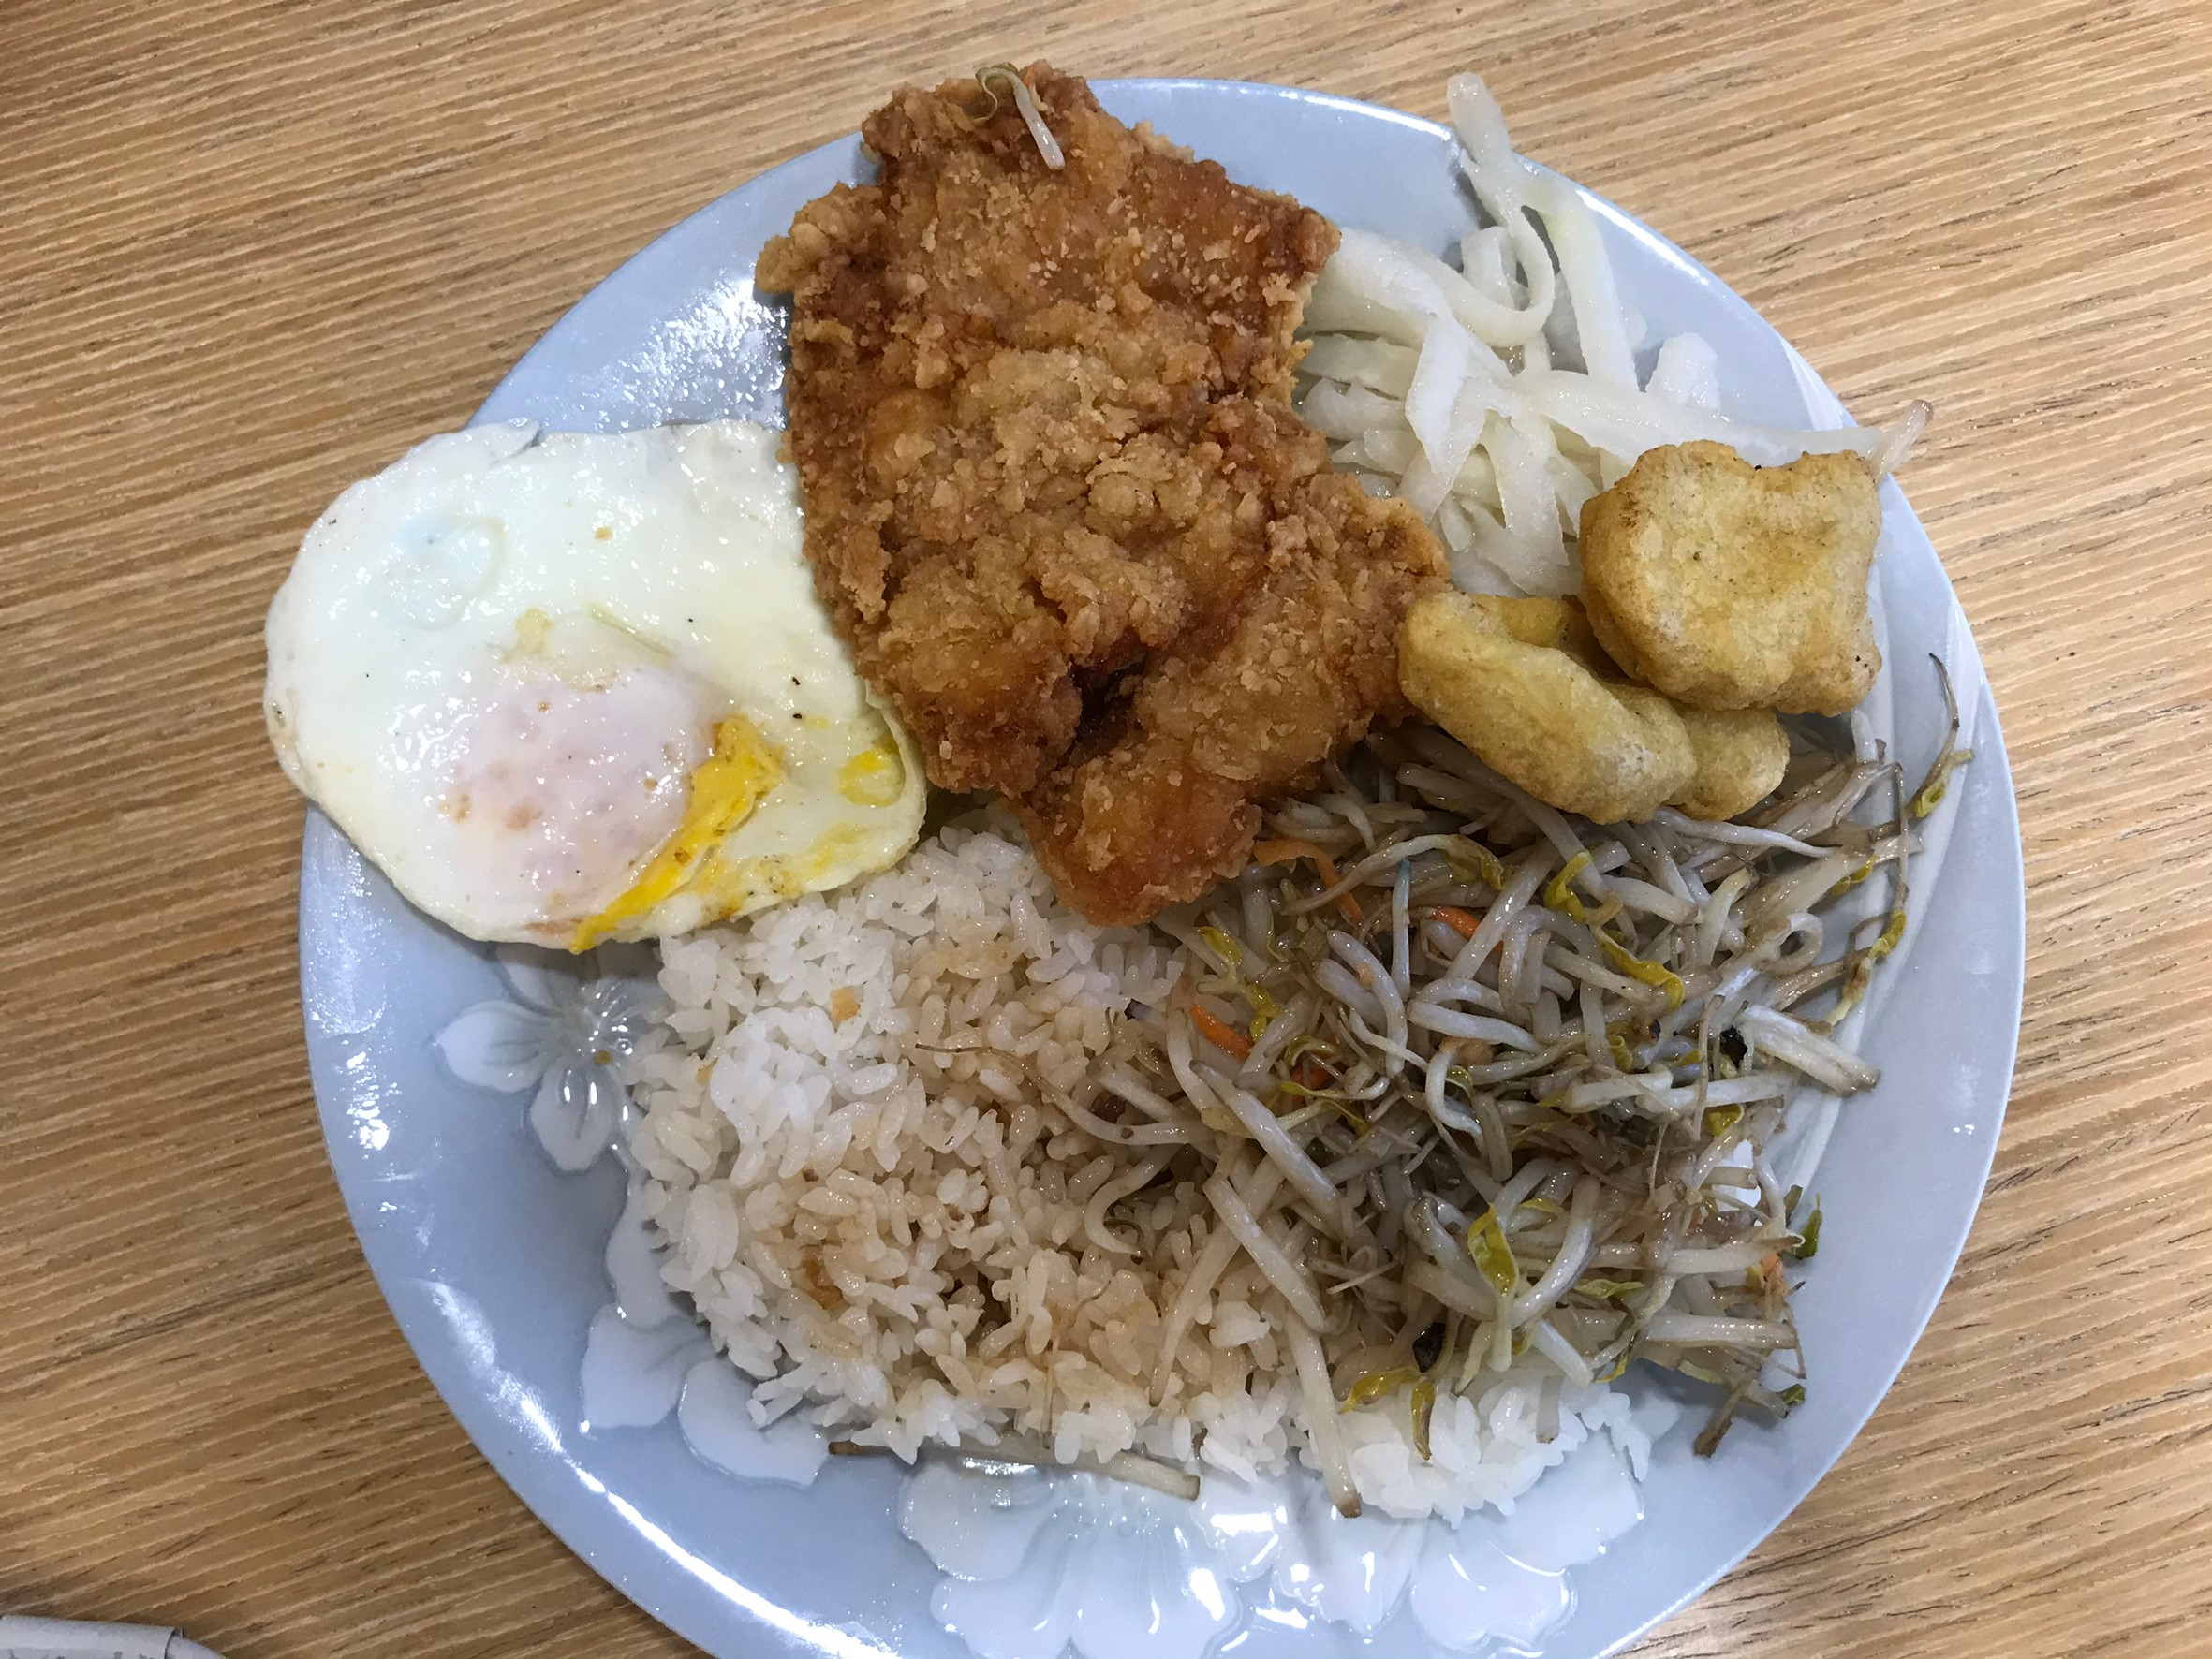chicken_nuggets: (1400, 439, 1883, 833)
fried_chicken: (812, 66, 1365, 884)
fried_eggs: (322, 437, 847, 932)
mung_bean_sprouts: (1187, 884, 1829, 1408)
rice: (699, 903, 1102, 1429)
